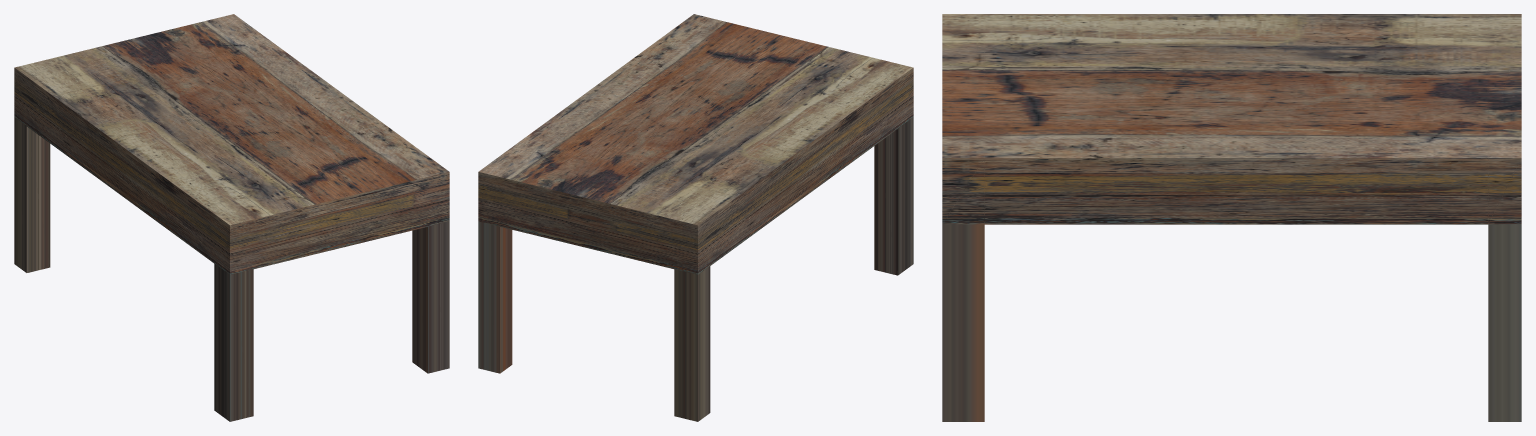
File: Table 1.fbx
3 renders of one model, left to right at view 1: azimuth 30°, elevation 25°; view 2: azimuth 150°, elevation 25°; view 3: azimuth 270°, elevation 25°, orthographic. The views are drawn at different scales.
Visible parts, largest first — view 1: Cube; view 2: Cube; view 3: Cube.
Part boxes in pixels (x1,y1,x2,y2): Cube: [14, 14, 449, 421]; Cube: [478, 14, 913, 421]; Cube: [942, 14, 1521, 421].
Bounding box in the file's own units: 200 × 171 × 340.
Materials: 1 (1 with a texture image).
